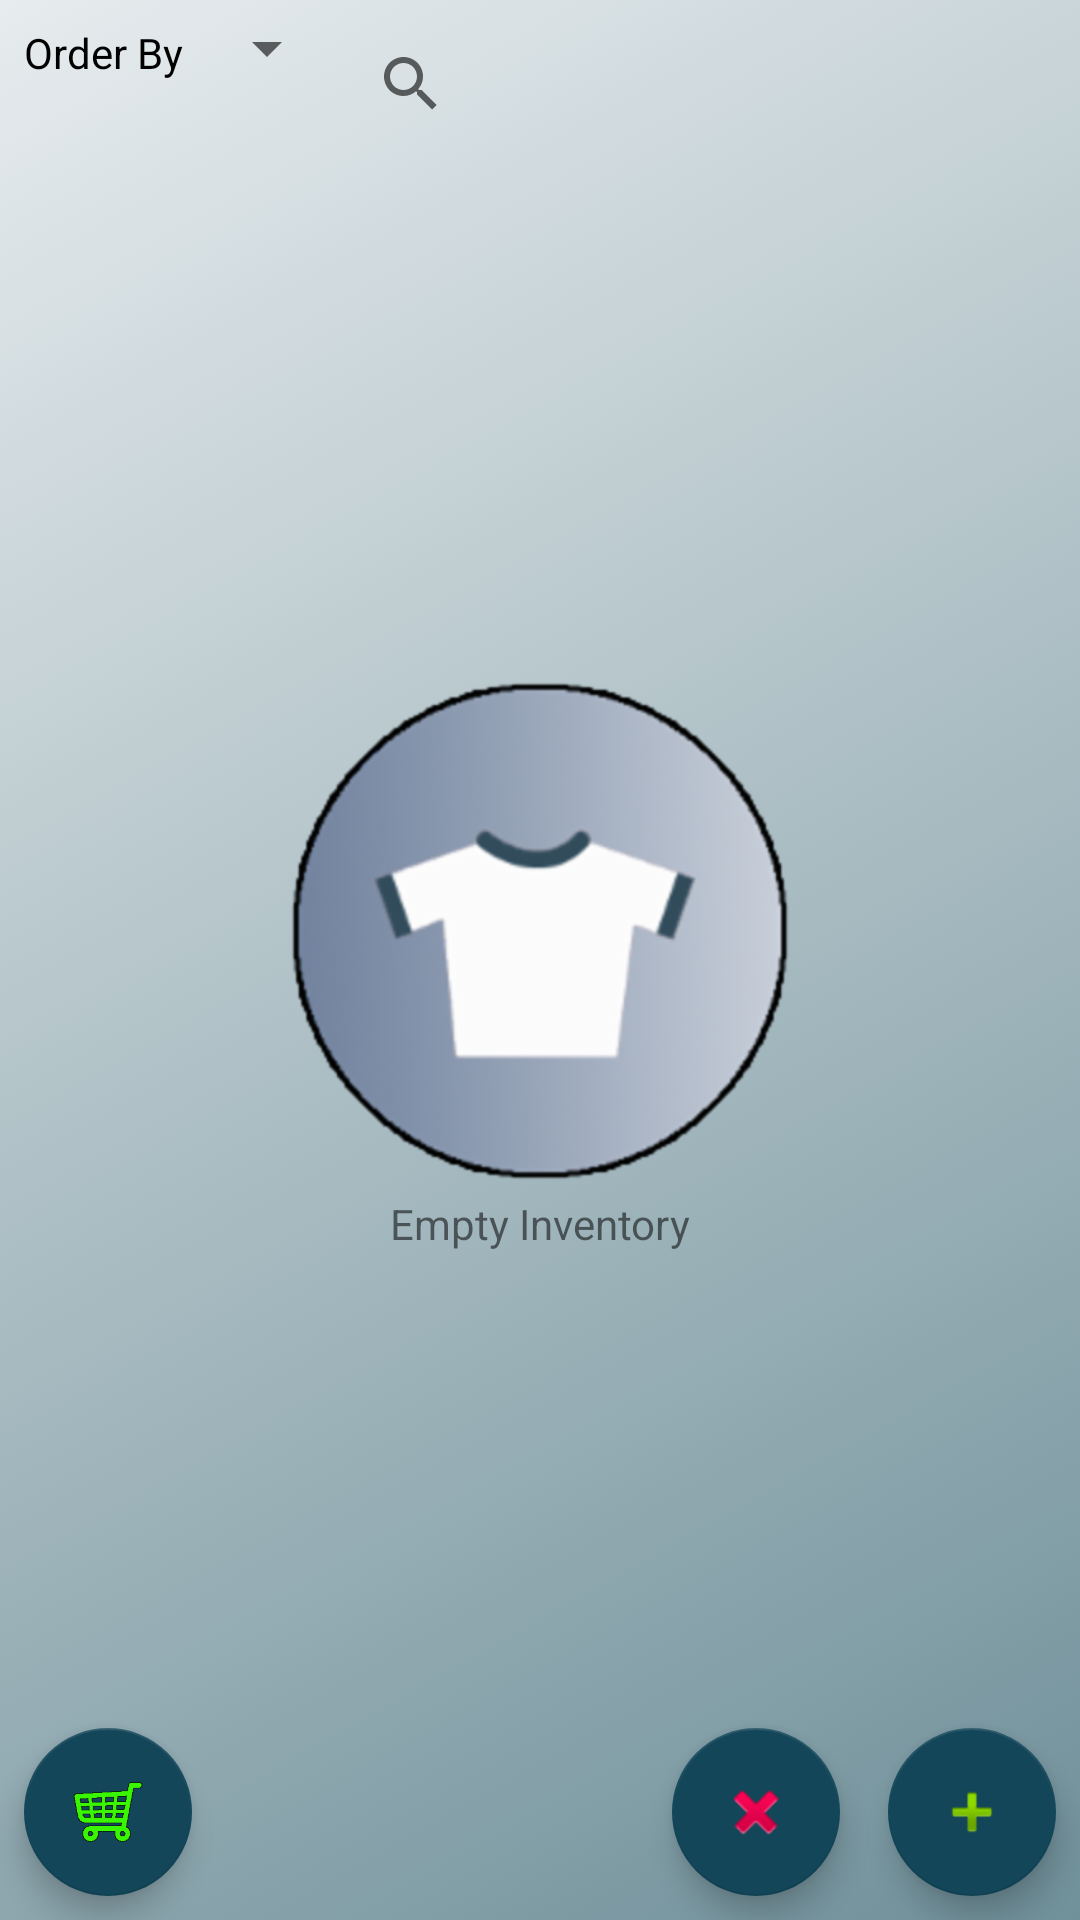

Icon click points for this 1080*1920 phone screenshot, format point (x, y):
add: point (972, 1812)
delete: point (756, 1812)
shop cart: point (108, 1812)
